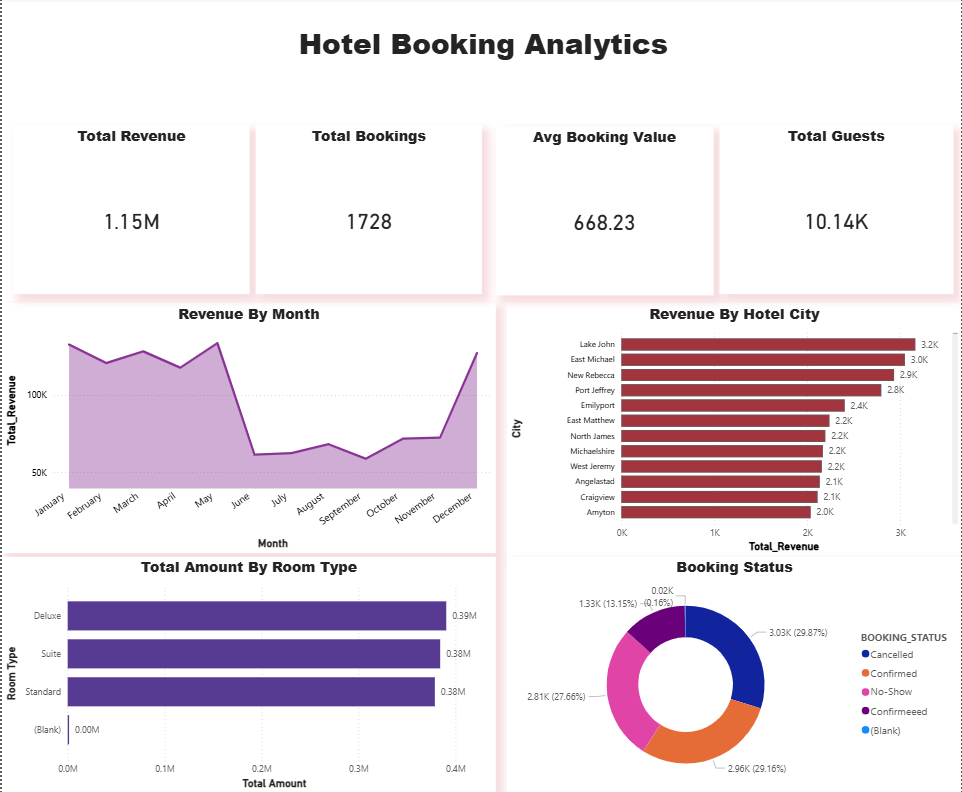

The dashboard page shown, as its layout file describes it:
{"tool":"powerbi","page":{"name":"Page 1","canvas":[1280,1080],"ordinal":0},"visuals":[{"type":"stackedAreaChart","title":"Revenue By Month","fields":{"Category":["GOLD_AGG_DAILY_BOOKING.DATE.Variation.Date Hierarchy.Month"],"Y":["Sum(GOLD_AGG_DAILY_BOOKING.TOTAL_REVENUE)"]},"box":[0,413.3,658.3,333.3],"z":0},{"type":"barChart","title":"Revenue By Hotel City ","fields":{"Category":["GOLD_AGG_HOTEL_CITY_SALES.HOTEL_CITY"],"Y":["Max(GOLD_AGG_HOTEL_CITY_SALES.TOTAL_REVENUE)"]},"box":[673.3,413.3,606.7,338.3],"z":1000},{"type":"clusteredBarChart","title":"Total Amount By Room Type","fields":{"Category":["GOLD_BOOKING_CLEAN.ROOM_TYPE"],"Y":["Sum(GOLD_BOOKING_CLEAN.TOTAL_AMOUNT)"]},"box":[0,751.7,658.3,315],"z":2000},{"type":"donutChart","title":"Booking Status","fields":{"Category":["GOLD_BOOKING_CLEAN.BOOKING_STATUS"],"Y":["Sum(GOLD_BOOKING_CLEAN.NUM_GUESTS)"]},"box":[673.3,751.7,606.7,315],"z":3000},{"type":"card","title":"Total Revenue ","fields":{"Values":["GOLD_BOOKING_CLEAN.Total Revenue"]},"box":[15,176.7,315,225],"z":4000},{"type":"card","title":"Total Bookings","fields":{"Values":["GOLD_BOOKING_CLEAN.Total Bookings"]},"box":[338.3,176.7,301.7,225],"z":5000},{"type":"card","title":"Avg Booking Value","fields":{"Values":["GOLD_BOOKING_CLEAN.Average Booking Value"]},"box":[658.3,178.3,290,225],"z":6000},{"type":"card","title":"Total Guests","fields":{"Values":["GOLD_BOOKING_CLEAN.Total Guests"]},"box":[956.7,176.7,311.7,225],"z":7000},{"type":"textbox","box":[15,0,1253.3,158.3],"z":8000}]}

Visuals, with their boxes in screenshot pixels (x1, y1, x2, y2), scaled from the page's 1280x1080 canvas onto the 962x792 screenshot:
"Revenue By Month" stackedAreaChart: l=0, t=303, r=495, b=548
"Revenue By Hotel City " barChart: l=506, t=303, r=961, b=551
"Total Amount By Room Type" clusteredBarChart: l=0, t=551, r=495, b=782
"Booking Status" donutChart: l=506, t=551, r=961, b=782
"Total Revenue " card: l=11, t=130, r=248, b=295
"Total Bookings" card: l=254, t=130, r=481, b=295
"Avg Booking Value" card: l=495, t=131, r=713, b=296
"Total Guests" card: l=719, t=130, r=953, b=295
textbox: l=11, t=0, r=953, b=116
